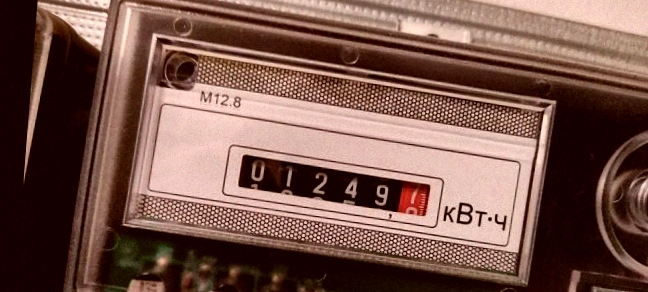0: (248, 155, 267, 182)
1: (280, 161, 296, 188)
2: (309, 169, 328, 196)
4: (342, 173, 360, 199)
7: (406, 179, 423, 206)
9: (371, 180, 389, 207)
screen: (218, 141, 447, 231)
